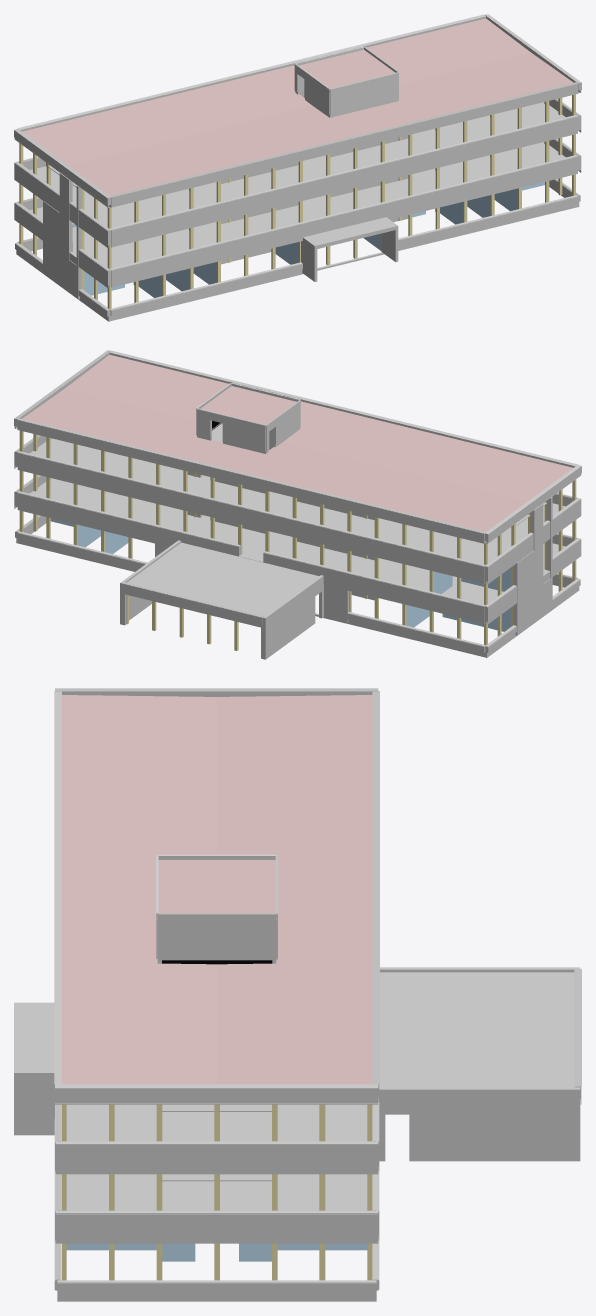
The model's file is scene_mobile.glb.
3 views of the same model, one above another, from view 1: azimuth 30°, elevation 25°; view 2: azimuth 150°, elevation 25°; view 3: azimuth 270°, elevation 25° (orthographic). The views are drawn at different scales.
Visible parts, largest first — view 1: object_383, object_6, object_9, object_20, object_339, object_3, object_18, object_384, object_217, object_374, object_198, object_424 (+7 smaller); view 2: object_383, object_6, object_9, object_339, object_408, object_21, object_3, object_20, object_18, object_1, object_384, object_217 (+12 smaller); view 3: object_383, object_408, object_6, object_2, object_9, object_339, object_20, object_3, object_384, object_378, object_385, object_374 (+12 smaller).
Part boxes in pixels (x1,y1,x2,y2): object_383: (22, 18, 573, 195); object_6: (23, 139, 581, 287); object_9: (14, 99, 581, 247); object_20: (14, 14, 577, 207); object_339: (30, 102, 565, 245); object_3: (15, 179, 580, 321); object_18: (294, 46, 398, 117); object_384: (299, 49, 394, 93); object_217: (43, 241, 81, 299); object_374: (305, 217, 398, 248); object_198: (43, 201, 72, 259); object_424: (110, 115, 577, 230); object_383: (22, 354, 572, 531); object_6: (14, 475, 577, 623); object_9: (14, 435, 581, 583); object_339: (30, 438, 565, 581); object_408: (127, 542, 318, 616); object_21: (17, 420, 484, 543); object_3: (15, 515, 580, 657); object_20: (17, 351, 581, 543); object_18: (196, 383, 300, 453); object_1: (261, 582, 315, 659); object_384: (200, 386, 296, 428); object_217: (513, 577, 552, 635); object_383: (62, 695, 372, 1084); object_408: (379, 972, 574, 1087); object_6: (55, 1167, 379, 1243); object_2: (409, 1087, 580, 1161); object_9: (55, 1102, 379, 1174); object_339: (66, 1104, 367, 1141); object_20: (54, 688, 379, 1101); object_3: (54, 1119, 379, 1301); object_384: (157, 860, 275, 921); object_378: (158, 914, 276, 960); object_385: (55, 1088, 378, 1100); object_374: (14, 1004, 54, 1079).
Size of the model in its own units: 45.93 by 13.94 by 27.57.
